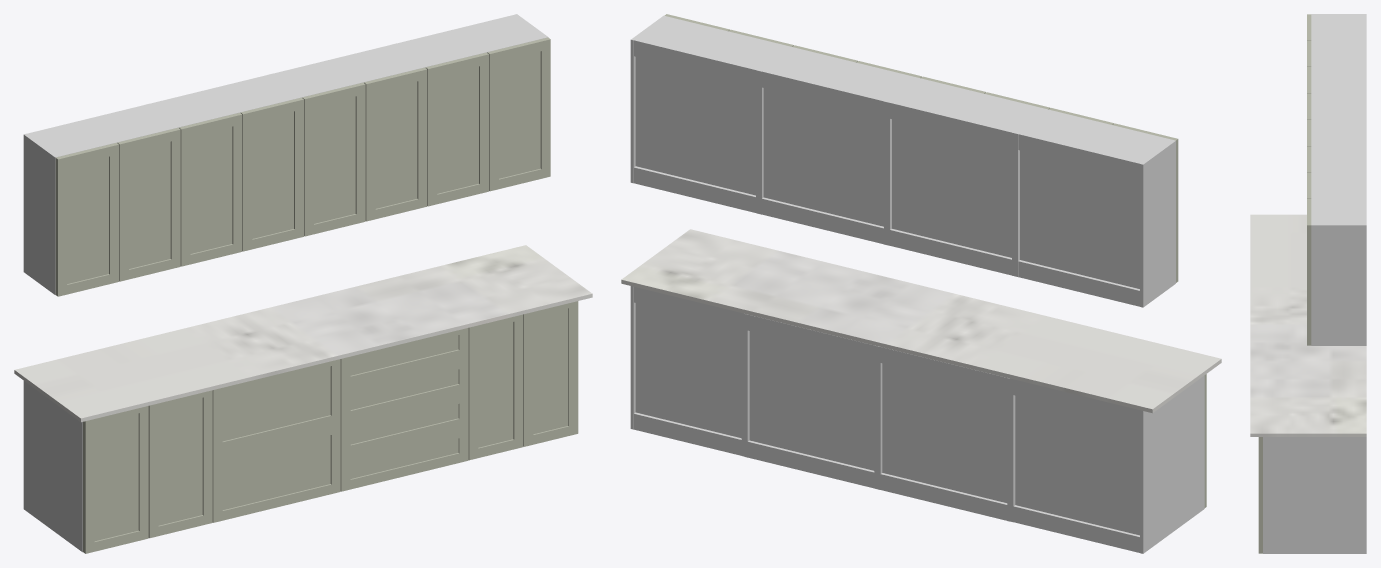
Rendered from Bachelor.glb.
The picture shows the model from 3 angles, left to right: view 1: azimuth 30°, elevation 25°; view 2: azimuth 150°, elevation 25°; view 3: azimuth 270°, elevation 25°; orthographic projection. The views are drawn at different scales.
Visible parts, largest first — view 1: Worktop_007_mesh_000, 2_Door_002_mesh_000, 2_Door_002_mesh_008, 2_Door_008_mesh_008, 2_Drawer_003_mesh_011, 2_Drawer_003_mesh_021, 2_Door_002_mesh_009, 2_Door_010_mesh_009, 2_Door_009_mesh_008, 2_Door_011_mesh_009, 2_Door_009_mesh_009, 2_Door_010_mesh_008 (+53 smaller); view 2: Worktop_007_mesh_000, 4_Drawer_004_mesh_006, 2_Drawer_003_mesh_006, 2_Door_002_mesh_005, 2_Door_011_mesh_005, 2_Door_010_mesh_005, 2_Door_009_mesh_005, 2_Door_008_mesh_005, 2_Door_005_mesh_005, 2_Door_002_mesh_000, 2_Door_008_mesh_000, 2_Door_008_mesh_007 (+27 smaller); view 3: Worktop_007_mesh_000, 2_Door_005_mesh_001, 2_Door_011_mesh_001, 2_Door_008_mesh_007, 2_Door_009_mesh_007, 2_Door_011_mesh_007, 2_Door_010_mesh_007, 2_Door_011_mesh_009, 2_Door_005_mesh_009, 2_Door_005_mesh_017, 2_Door_011_mesh_017, 2_Door_008_mesh_003 (+3 smaller).
Part boxes in pixels (x1,y1,x2,y2): Worktop_007_mesh_000: (14, 245, 592, 422); 2_Door_002_mesh_000: (23, 381, 82, 552); 2_Door_002_mesh_008: (83, 413, 138, 552); 2_Door_008_mesh_008: (55, 143, 117, 295); 2_Drawer_003_mesh_011: (222, 435, 330, 509); 2_Drawer_003_mesh_021: (222, 366, 330, 441); 2_Door_002_mesh_009: (158, 397, 202, 525); 2_Door_010_mesh_009: (364, 67, 426, 208); 2_Door_009_mesh_008: (179, 112, 240, 253); 2_Door_011_mesh_009: (487, 37, 549, 178); 2_Door_009_mesh_009: (240, 97, 302, 238); 2_Door_010_mesh_008: (302, 82, 364, 223); Worktop_007_mesh_000: (621, 229, 1221, 413); 4_Drawer_004_mesh_006: (749, 331, 874, 470); 2_Drawer_003_mesh_006: (882, 363, 1007, 502); 2_Door_002_mesh_005: (1015, 395, 1139, 535); 2_Door_011_mesh_005: (635, 38, 757, 195); 2_Door_010_mesh_005: (763, 70, 885, 226); 2_Door_009_mesh_005: (892, 101, 1013, 257); 2_Door_008_mesh_005: (1020, 132, 1141, 288); 2_Door_005_mesh_005: (635, 303, 741, 438); 2_Door_002_mesh_000: (1140, 375, 1204, 553); 2_Door_008_mesh_000: (1140, 140, 1175, 307); 2_Door_008_mesh_007: (1020, 110, 1172, 162); Worktop_007_mesh_000: (1250, 214, 1366, 436); 2_Door_005_mesh_001: (1263, 437, 1366, 553); 2_Door_011_mesh_001: (1311, 224, 1366, 345); 2_Door_008_mesh_007: (1311, 15, 1362, 65); 2_Door_009_mesh_007: (1311, 68, 1362, 118); 2_Door_011_mesh_007: (1311, 173, 1362, 223); 2_Door_010_mesh_007: (1311, 121, 1362, 170); 2_Door_011_mesh_009: (1308, 199, 1311, 345); 2_Door_005_mesh_009: (1260, 437, 1262, 553); 2_Door_005_mesh_017: (1258, 441, 1260, 545); 2_Door_011_mesh_017: (1307, 233, 1308, 337); 2_Door_008_mesh_003: (1363, 15, 1366, 65).
Size of the model in its own units: 2.8 by 1.96 by 0.63.
100 materials, 1 textured.
